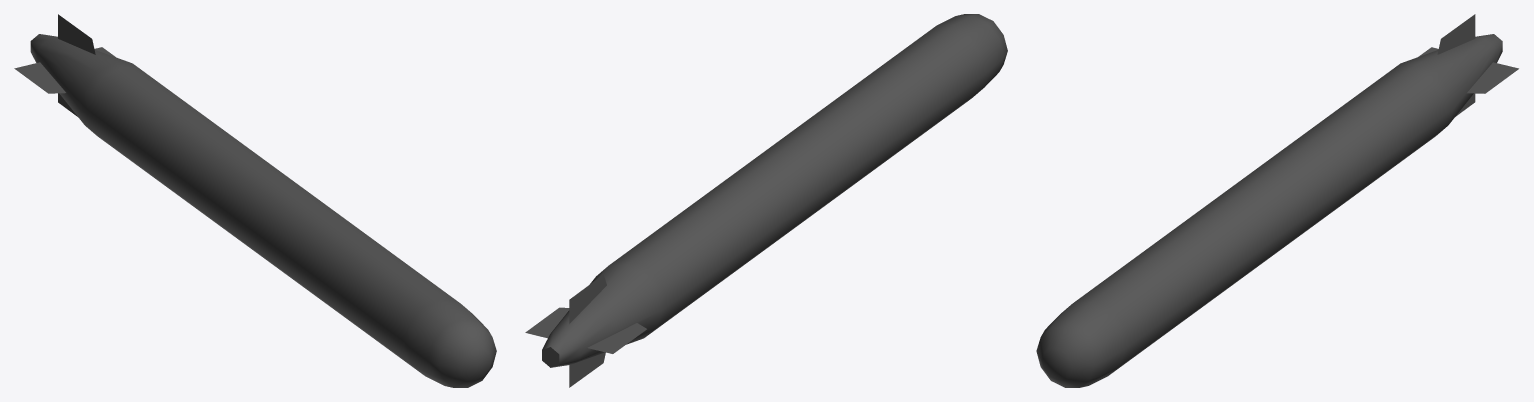
File: long_torpedo_model.obj
3 renders of one model, left to right at view 1: azimuth 30°, elevation 25°; view 2: azimuth 150°, elevation 25°; view 3: azimuth 330°, elevation 25°, orthographic.
Parts seen in each view (by area): view 1: long_torpedo; view 2: long_torpedo; view 3: long_torpedo.
Boxes of the visible parts, x1,y1,x2,y2 form: long_torpedo: [14, 14, 496, 387]; long_torpedo: [525, 14, 1007, 387]; long_torpedo: [1036, 14, 1518, 387].
Size of the model in its own units: 0.9593 by 0.9233 by 8.26.
